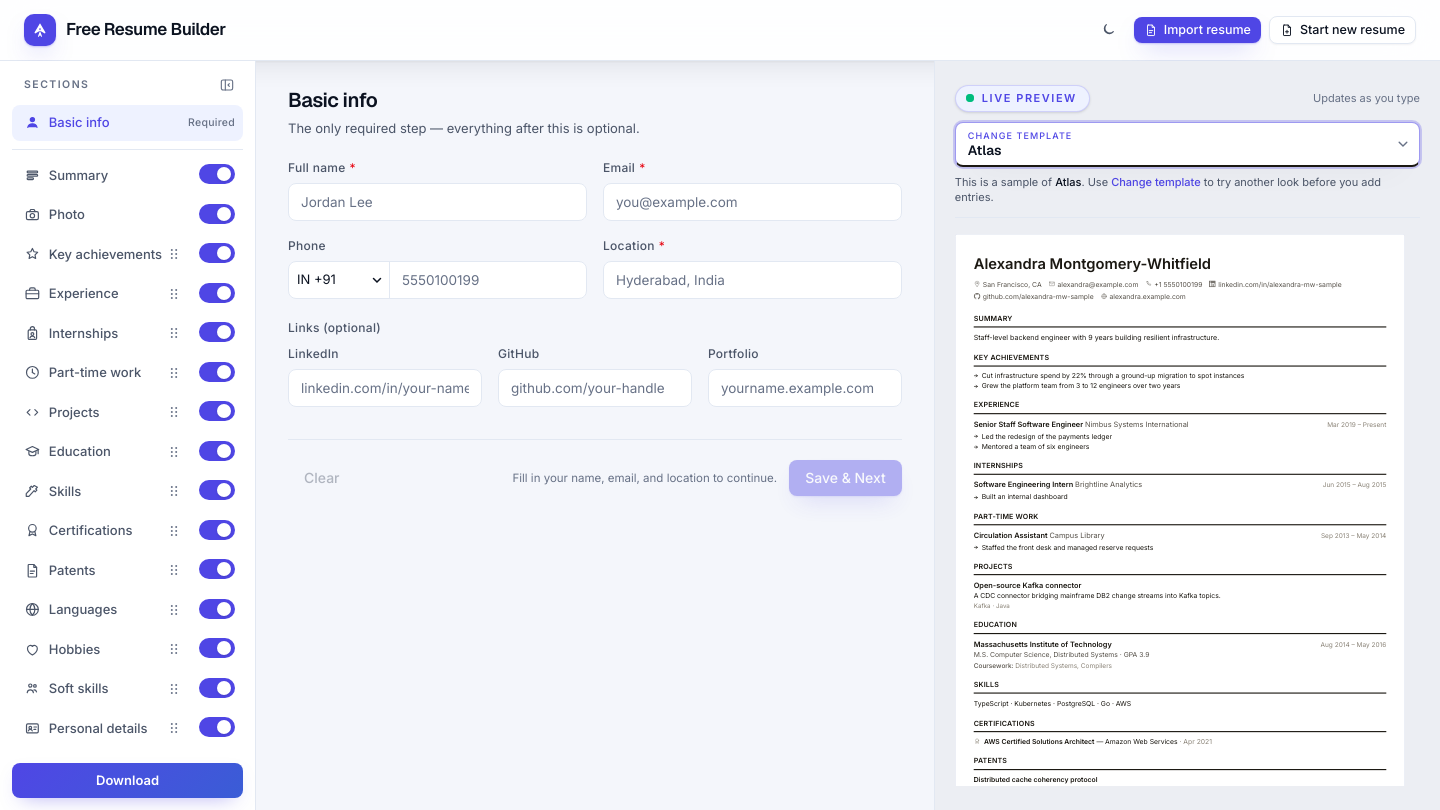
Test case: BuilderShell › switches the active form panel via the section nav
The width and height of the screenshot is (1440, 810).
Expected: the heading "Basic info" is shown, [288,87,377,113]
Click the button "Skills".
click(86, 491)  # box [12,474,159,509]
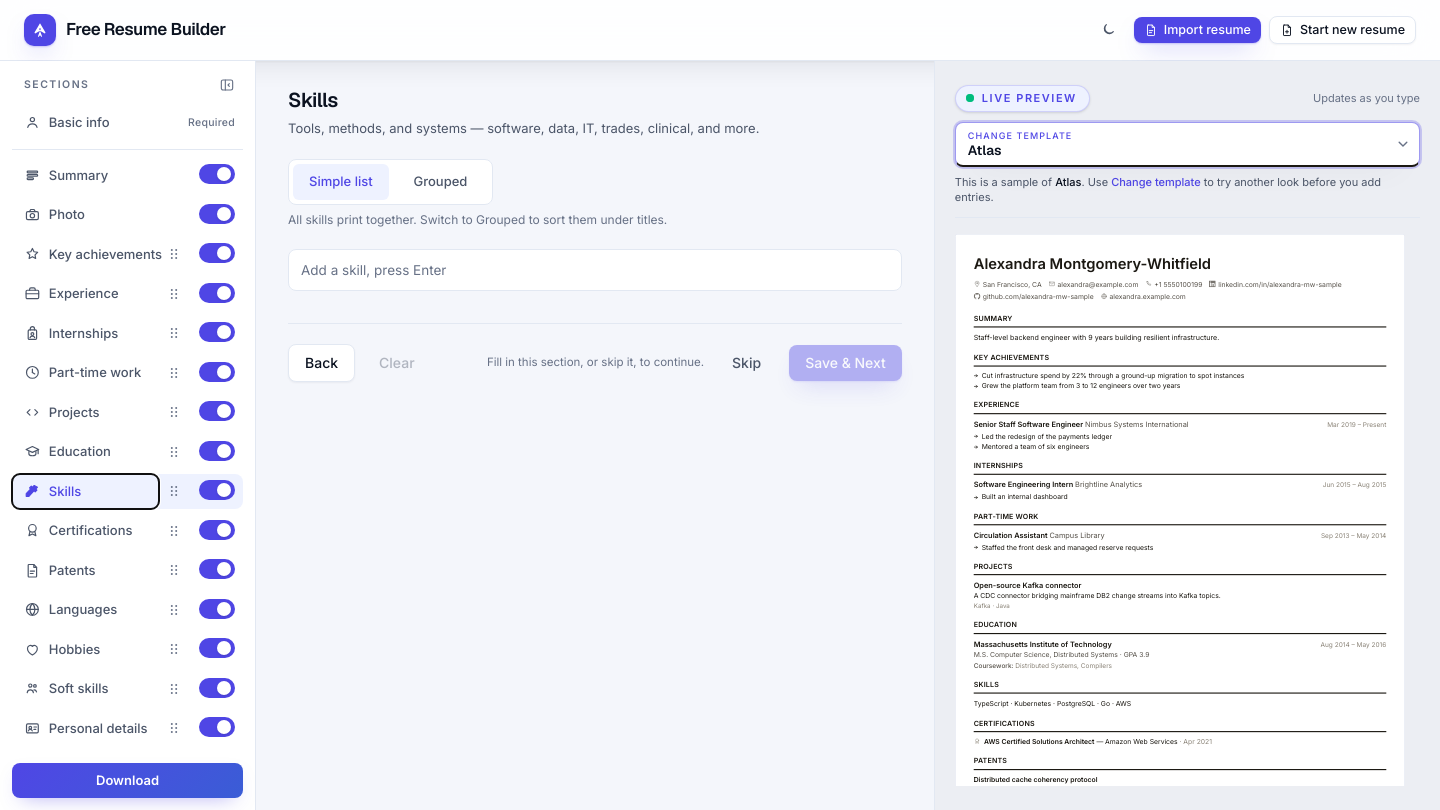
Expected: the text "Tools, methods, and systems — software, data, IT, trades, clinical, and more." is shown, [288,120,759,136]
Expected: the label labelled "Full name" is gone
